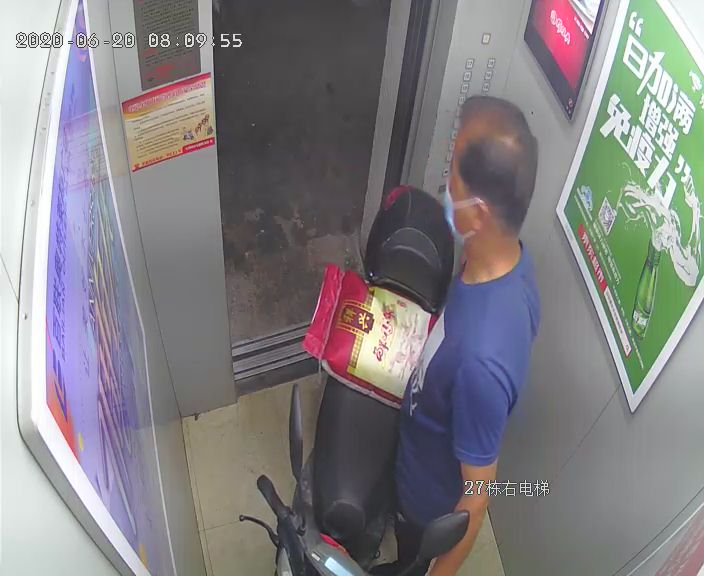Electric-bicycle: (242, 186, 467, 576)
